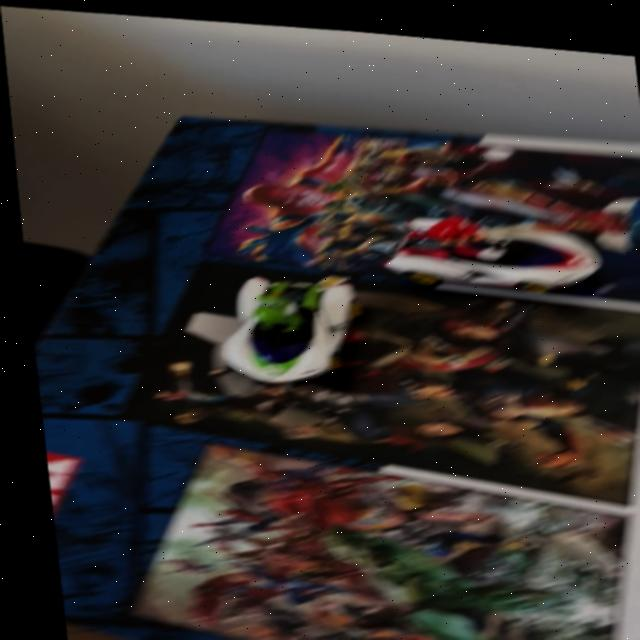mario: (367, 194, 631, 311)
yoshi: (167, 253, 376, 396)
